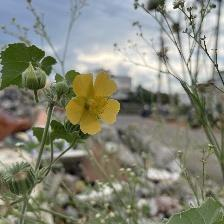indian mallow: (66, 72, 124, 138)
